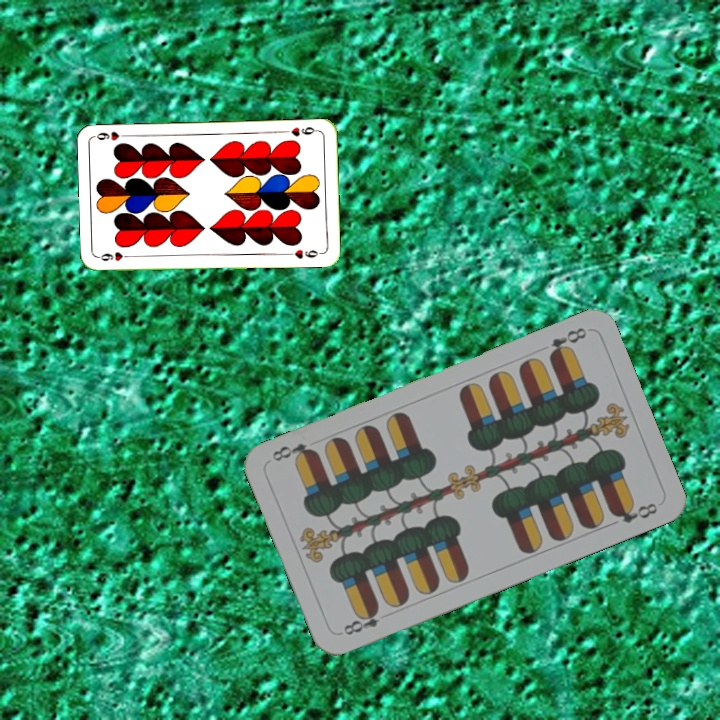E8: (545, 323, 590, 362), (339, 603, 383, 638)
H9: (280, 123, 321, 139), (95, 248, 136, 264)
